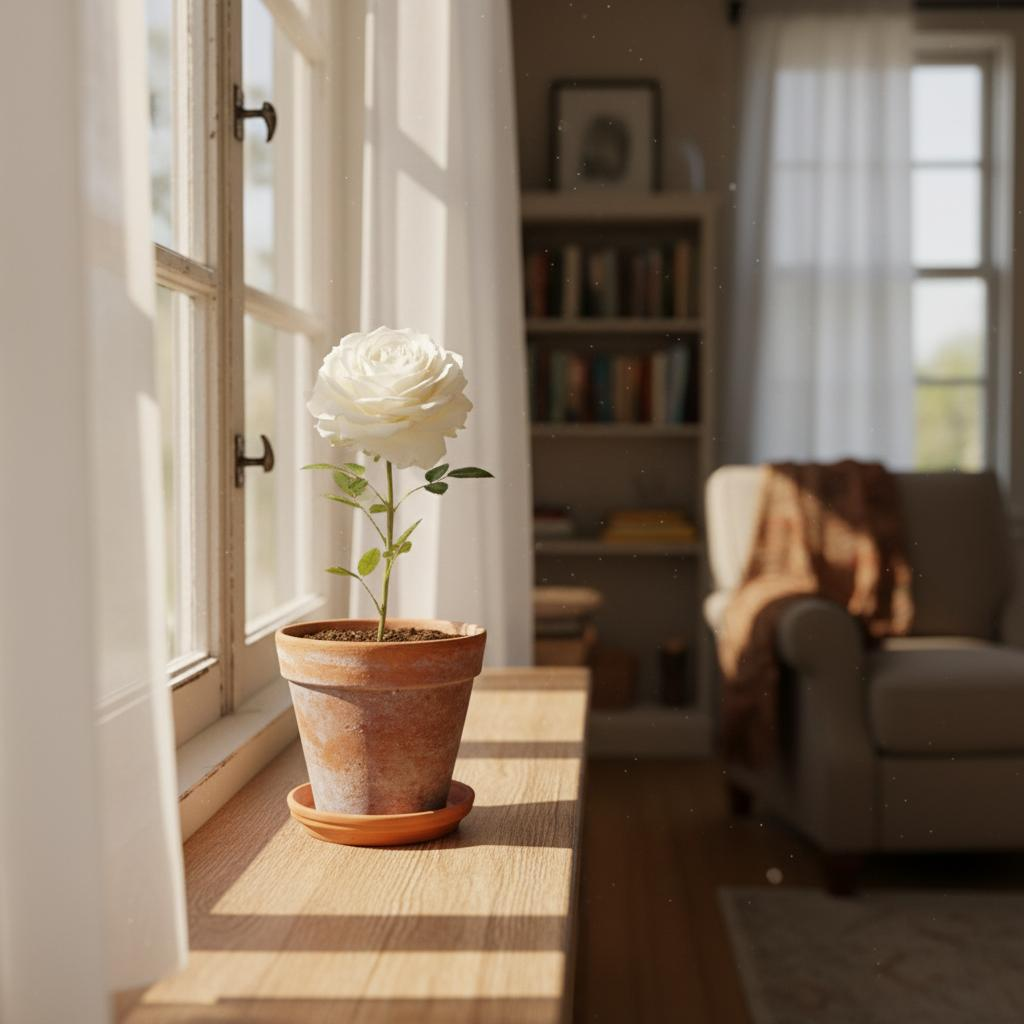rose: (304, 323, 473, 471)
